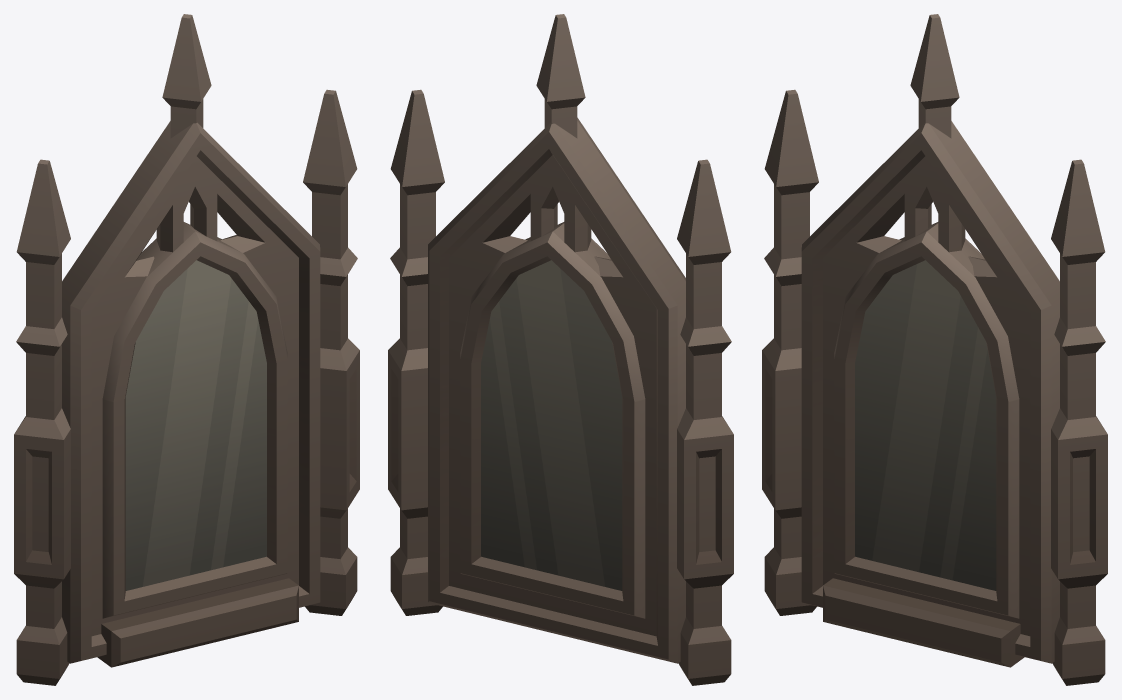
File: ornate_mirror.gltf
3 renders of one model, left to right at view 1: azimuth 30°, elevation 25°; view 2: azimuth 150°, elevation 25°; view 3: azimuth 330°, elevation 25°, orthographic.
Visible parts, largest first — view 1: ornate_mirror; view 2: ornate_mirror; view 3: ornate_mirror.
Part boxes in pixels (x1=…): ornate_mirror: x1=14, y1=14, x2=359, y2=685; ornate_mirror: x1=388, y1=14, x2=733, y2=685; ornate_mirror: x1=762, y1=14, x2=1107, y2=685.
Bounding box in the file's own units: 2.3 × 3.98 × 0.4593.
2 materials, 2 textured.
